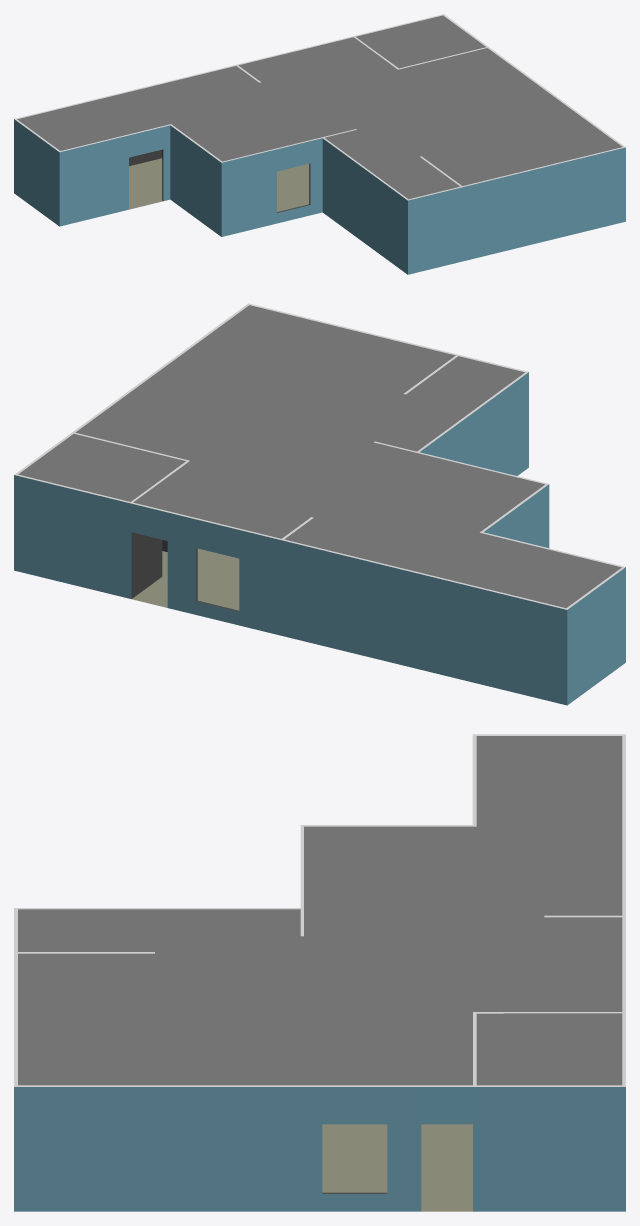
Rendered from House01.fbx.
3 views of the same model, one above another, from view 1: azimuth 30°, elevation 25°; view 2: azimuth 150°, elevation 25°; view 3: azimuth 270°, elevation 25° (orthographic). The views are drawn at different scales.
Parts seen in each view (by area): view 1: Ceiling, Outside_Structure, Structure, Floor; view 2: Ceiling, Outside_Structure, Structure, Floor; view 3: Ceiling, Outside_Structure, Floor, Structure.
Part boxes in pixels (x1,y1,x2,y2): Ceiling: [17, 15, 622, 199]; Outside_Structure: [14, 119, 625, 274]; Structure: [14, 14, 625, 212]; Floor: [129, 158, 309, 211]; Ceiling: [18, 305, 621, 607]; Outside_Structure: [14, 372, 625, 705]; Structure: [14, 303, 625, 611]; Floor: [132, 548, 239, 610]; Ceiling: [18, 736, 622, 1085]; Outside_Structure: [14, 1087, 625, 1211]; Floor: [322, 1124, 472, 1211]; Structure: [14, 734, 625, 1193].
Size of the model in its own units: 2423 by 400 by 1778.
